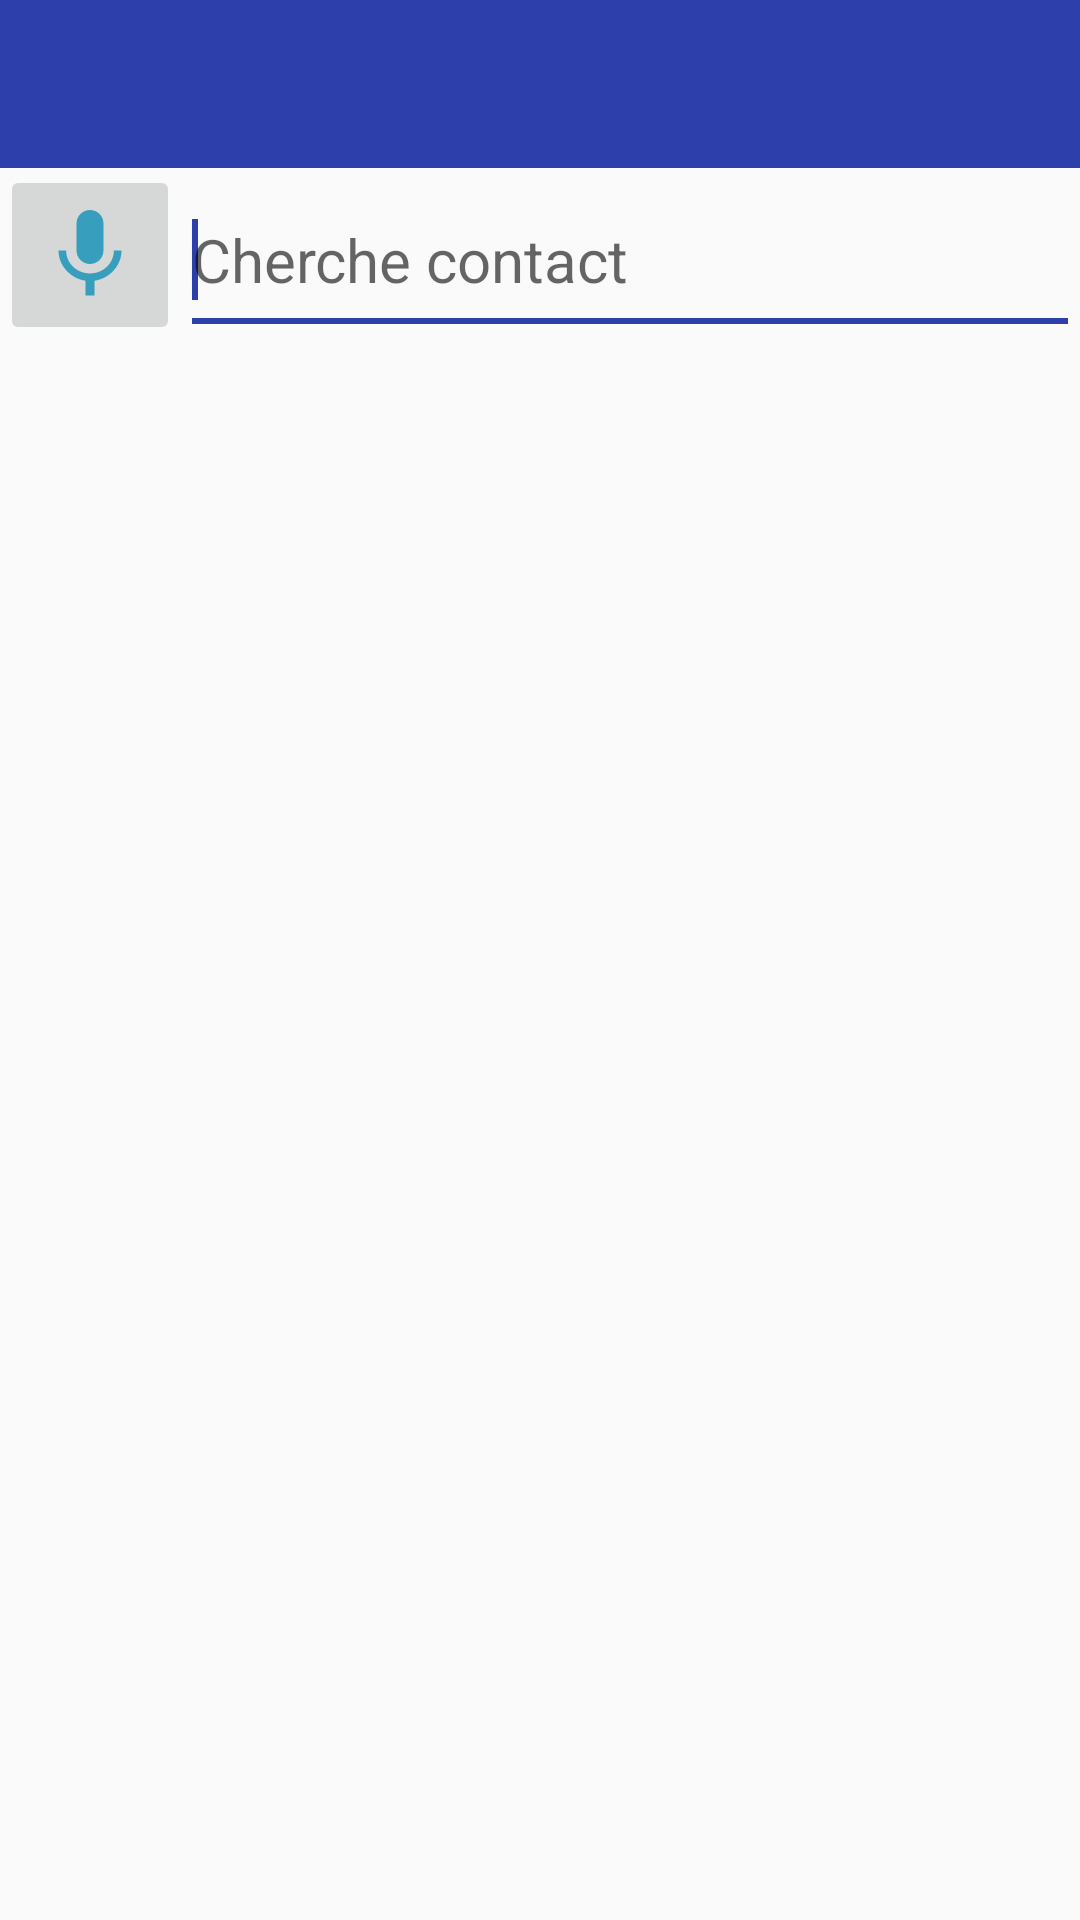

Where to tap for icons on this 1080w x 1920h app screen, as (x=x, y=y):
mic: (x=90, y=255)
